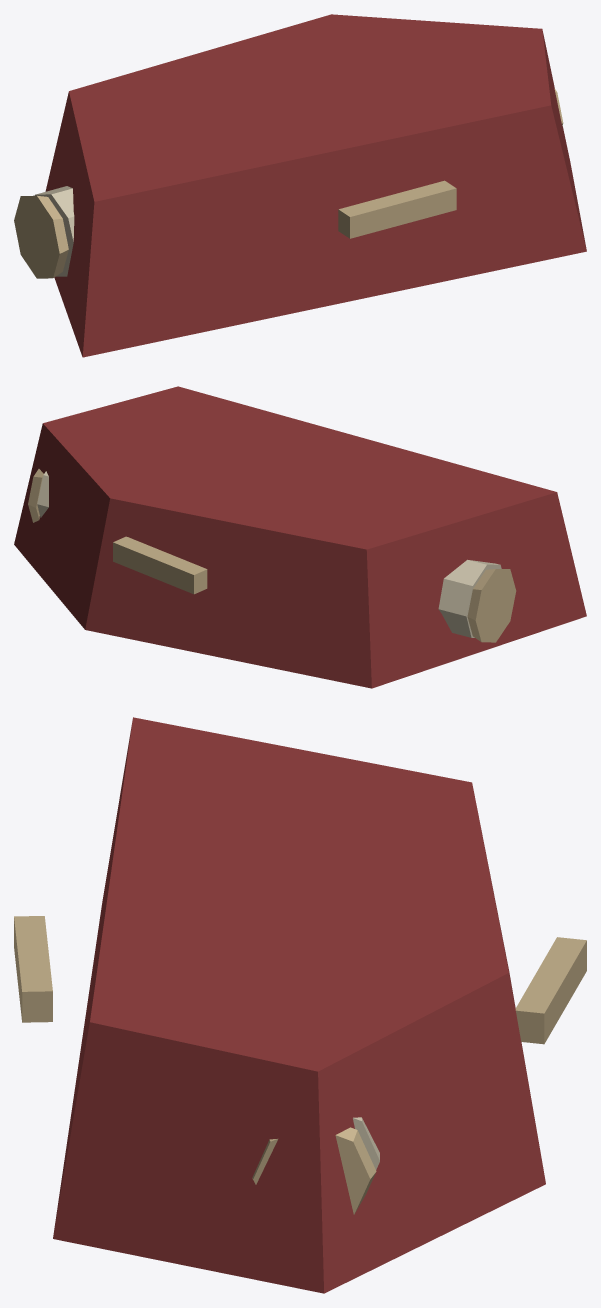
The model's file is pickup_raw_meat.glb.
3 renders of one model, top to bottom at view 1: azimuth 30°, elevation 25°; view 2: azimuth 150°, elevation 25°; view 3: azimuth 270°, elevation 25°, orthographic. The views are drawn at different scales.
Parts seen in each view (by area): view 1: Raw_Meat, Fat_4, Bone_Face_l, Bone; view 2: Raw_Meat, Fat_2, Bone_Face_l, Bone, Bone_Face_r; view 3: Raw_Meat, Fat_2, Fat_4, Bone_Face_r.
Boxes of the visible parts, left/top/right/bottom form: Raw_Meat: left=45, top=14, right=586, bottom=357; Fat_4: left=338, top=180, right=456, bottom=238; Bone_Face_l: left=14, top=195, right=68, bottom=278; Bone: left=35, top=186, right=74, bottom=276; Raw_Meat: left=14, top=386, right=586, bottom=688; Fat_2: left=113, top=536, right=207, bottom=594; Bone_Face_l: left=467, top=569, right=516, bottom=642; Bone: left=37, top=471, right=501, bottom=637; Bone_Face_r: left=28, top=469, right=43, bottom=522; Raw_Meat: left=53, top=717, right=545, bottom=1293; Fat_2: left=515, top=937, right=586, bottom=1044; Fat_4: left=14, top=916, right=52, bottom=1022; Bone_Face_r: left=252, top=1127, right=376, bottom=1214.
Bounding box in the file's own units: 0.3 × 0.072 × 0.1859.
